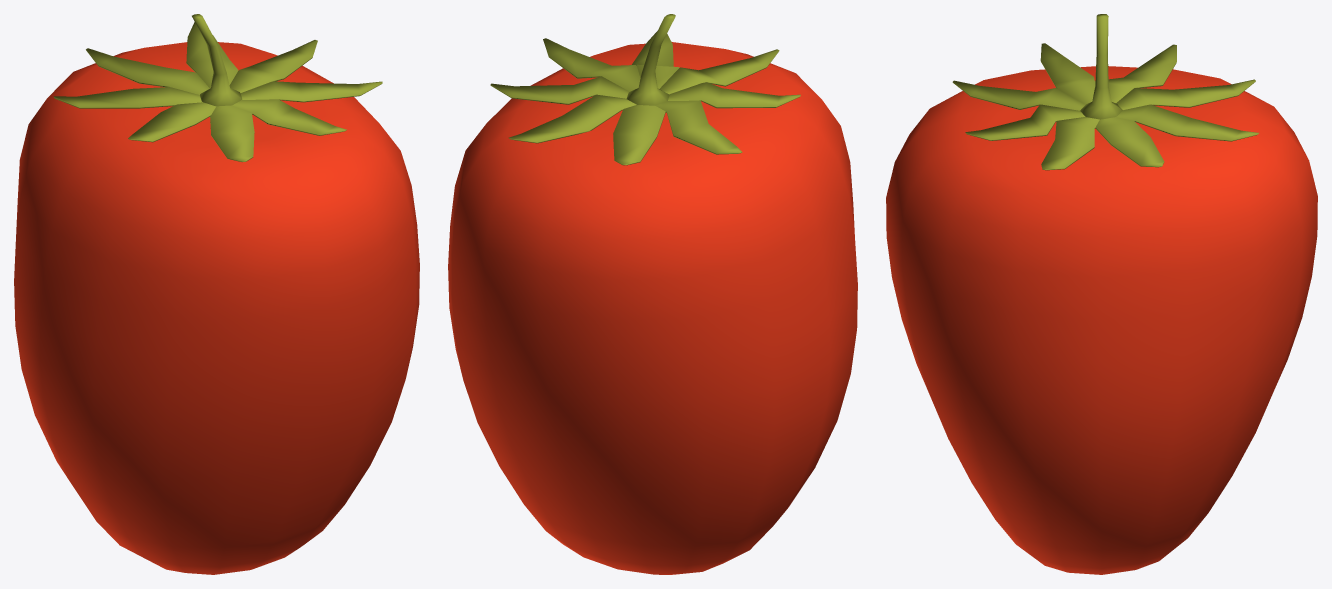
File: Tomato.fbx
3 views of the same model, side by side, from view 1: azimuth 30°, elevation 25°; view 2: azimuth 150°, elevation 25°; view 3: azimuth 270°, elevation 25° (orthographic). The views are drawn at different scales.
Visible parts, largest first — view 1: Cube.043; view 2: Cube.043; view 3: Cube.043.
Boxes of the visible parts, x1,y1,x2,y2 form: Cube.043: [14, 14, 419, 574]; Cube.043: [448, 14, 857, 574]; Cube.043: [886, 14, 1317, 574].
Bounding box in the file's own units: 13.17 × 19.41 × 14.28.
